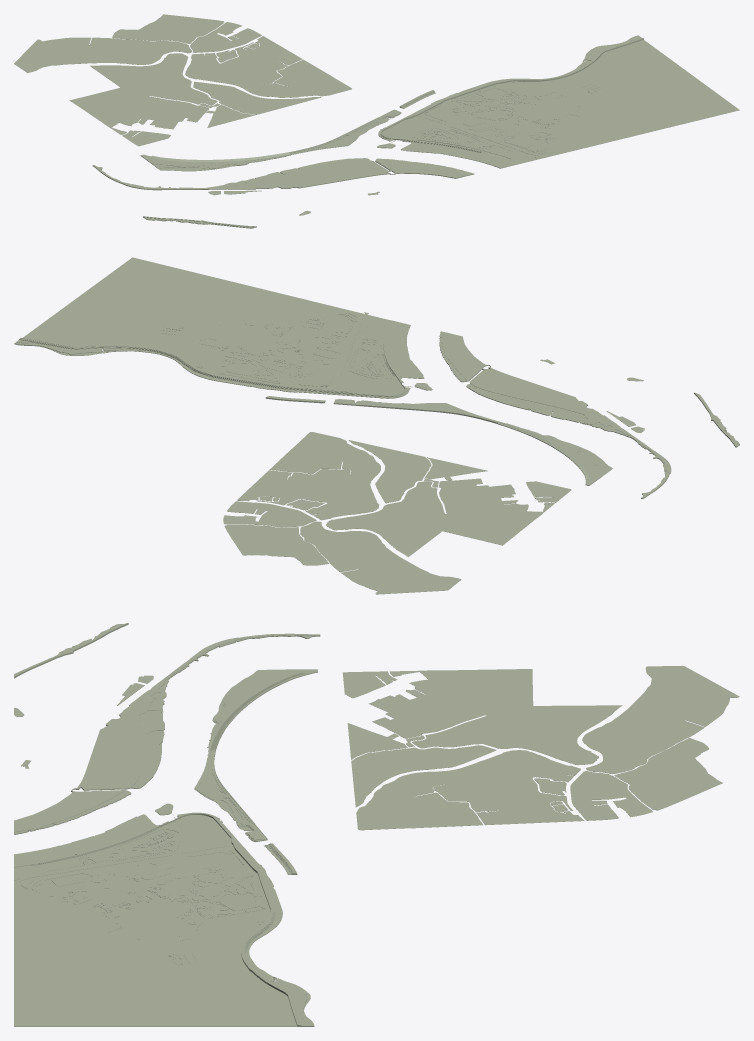
File: green.glb
3 views of the same model, one above another, from view 1: azimuth 30°, elevation 25°; view 2: azimuth 150°, elevation 25°; view 3: azimuth 270°, elevation 25° (orthographic). The views are drawn at different scales.
Parts seen in each view (by area): view 1: 河岸, 綠地; view 2: 河岸, 綠地; view 3: 河岸, 綠地.
Part boxes in pixels (left/top/right/bottom): 河岸: left=92, top=35, right=739, bottom=228; 綠地: left=14, top=14, right=602, bottom=215; 河岸: left=14, top=257, right=739, bottom=498; 綠地: left=161, top=312, right=644, bottom=594; 河岸: left=14, top=623, right=320, bottom=1026; 綠地: left=14, top=665, right=739, bottom=965.
Size of the model in its own units: 3249 by 10.3 by 2485.
